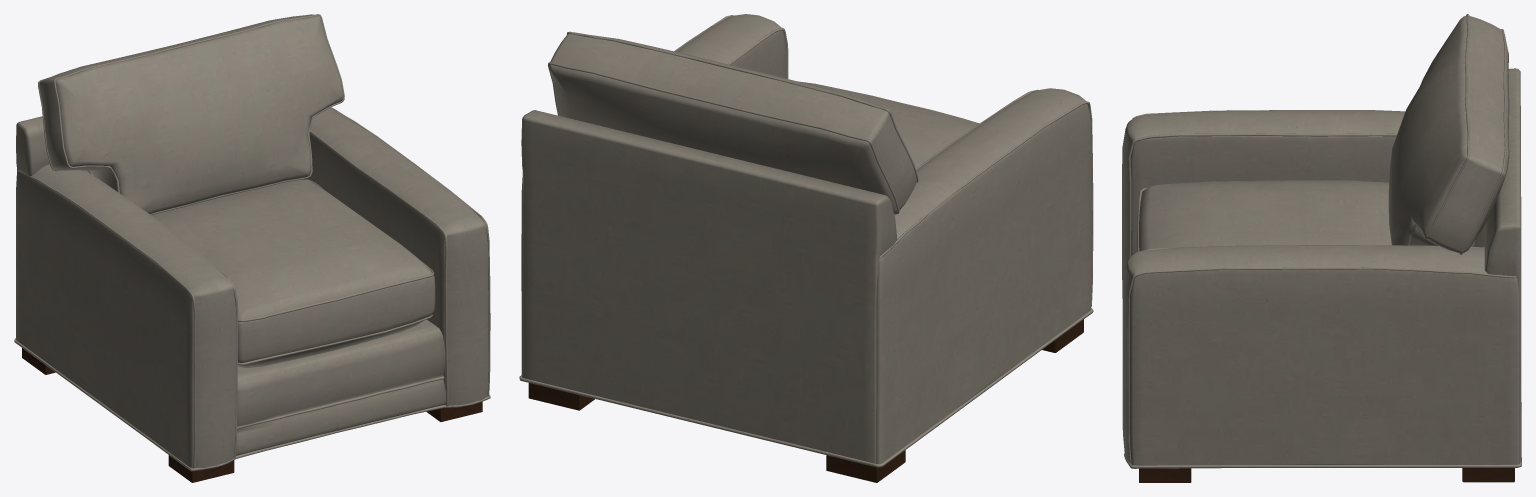
File: abo-B071J7Q39G.glb
The picture shows the model from 3 angles, left to right: view 1: azimuth 30°, elevation 25°; view 2: azimuth 150°, elevation 25°; view 3: azimuth 270°, elevation 25°; orthographic projection. The views are drawn at different scales.
Size of the model in its own units: 0.999 by 0.934 by 1.04.
Materials: 1 (1 with a texture image).
